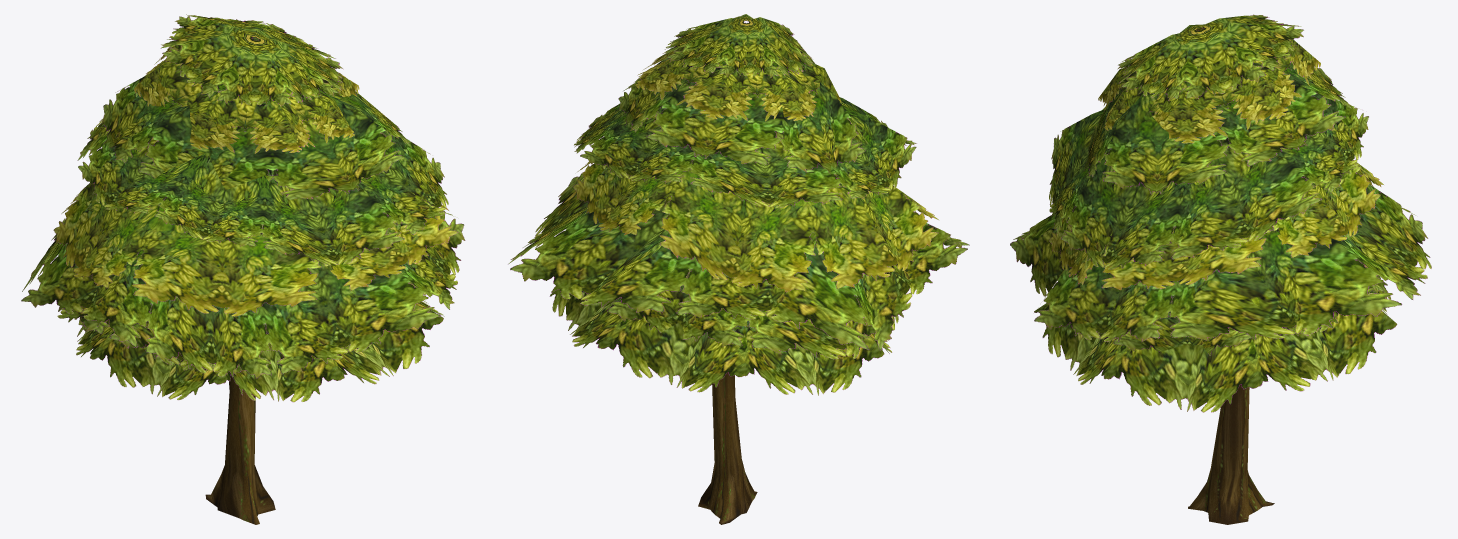
File: n_SEatree02.glb
The picture shows the model from 3 angles, left to right: view 1: azimuth 30°, elevation 25°; view 2: azimuth 150°, elevation 25°; view 3: azimuth 270°, elevation 25°; orthographic projection.
Visible parts, largest first — view 1: n_SEatree02; view 2: n_SEatree02; view 3: n_SEatree02.
Part boxes in pixels (bbox=[...]): n_SEatree02: bbox=[21, 14, 465, 524]; n_SEatree02: bbox=[508, 14, 969, 524]; n_SEatree02: bbox=[1010, 14, 1431, 524].
Bounding box in the file's own units: 5.23 × 6.3 × 5.19.
2 materials, 2 textured.
